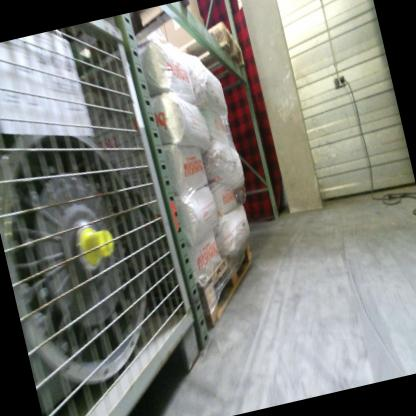pallet: (178, 223, 278, 345), (157, 7, 267, 109)
stillage: (0, 16, 213, 416)
